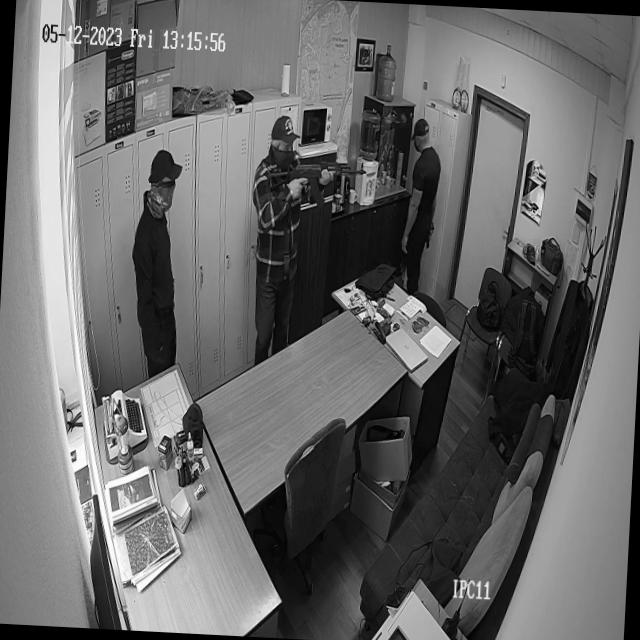gun: (267, 158, 369, 202), (426, 222, 436, 250)
person: (126, 137, 189, 380)
person with a gun: (238, 105, 371, 342), (397, 106, 442, 305)
